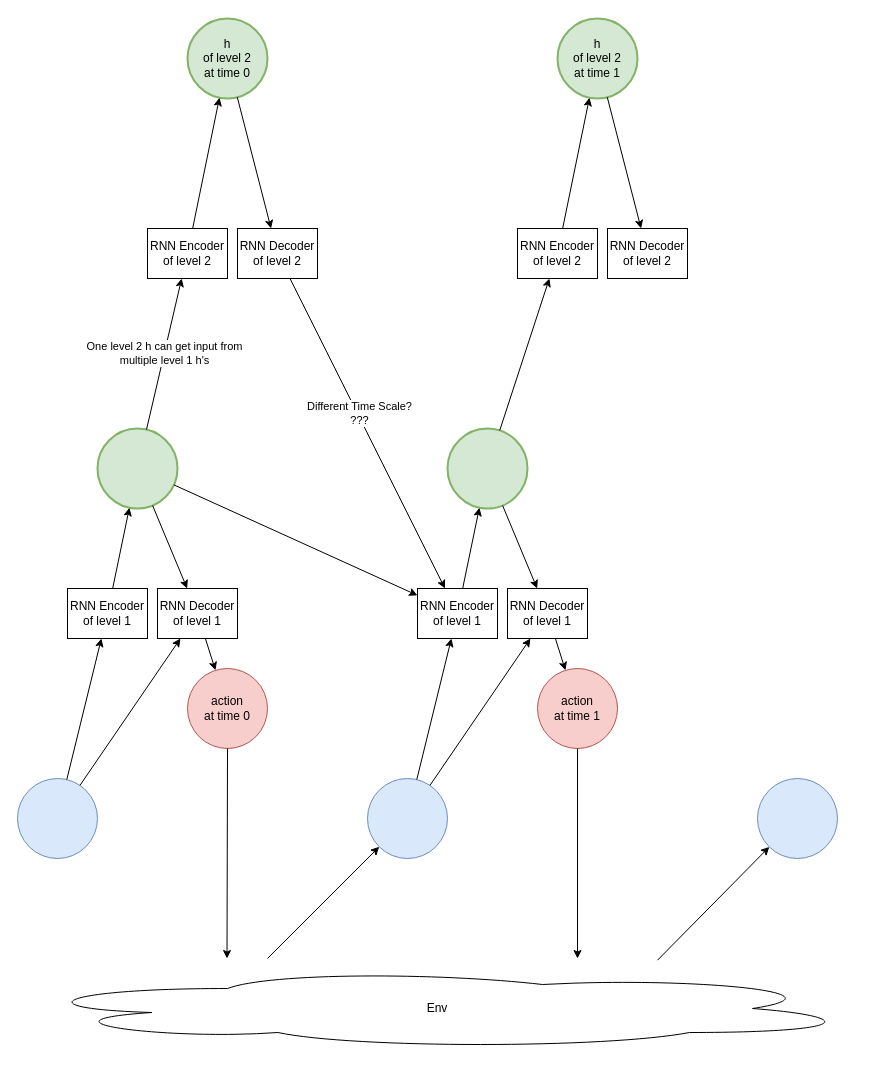
The diagram is 875 pixels wide and 1066 high, and some of its shapes have lost their labels. Each missing label, with the centre of its shape:
h of level 1 at time 0: [137,468]
h of level 1 at time 1: [487,468]
state at time 0: [57,818]
state at time 1: [407,818]
state at time 2: [797,818]
